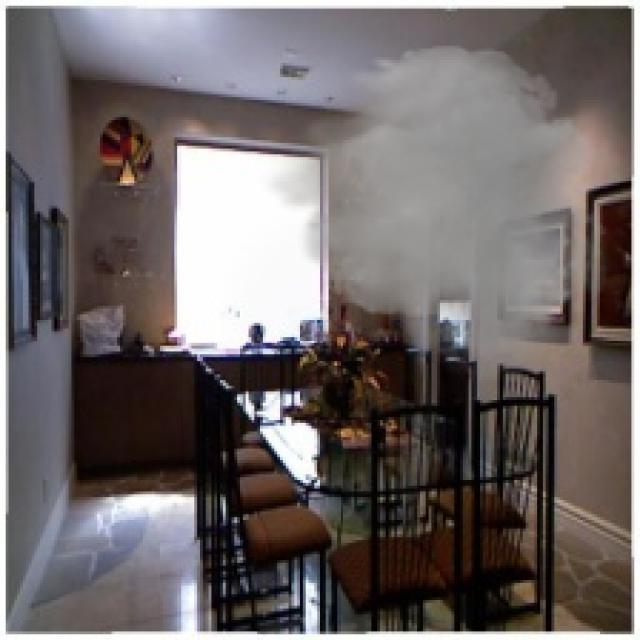Smoke: (257, 37, 623, 383)
